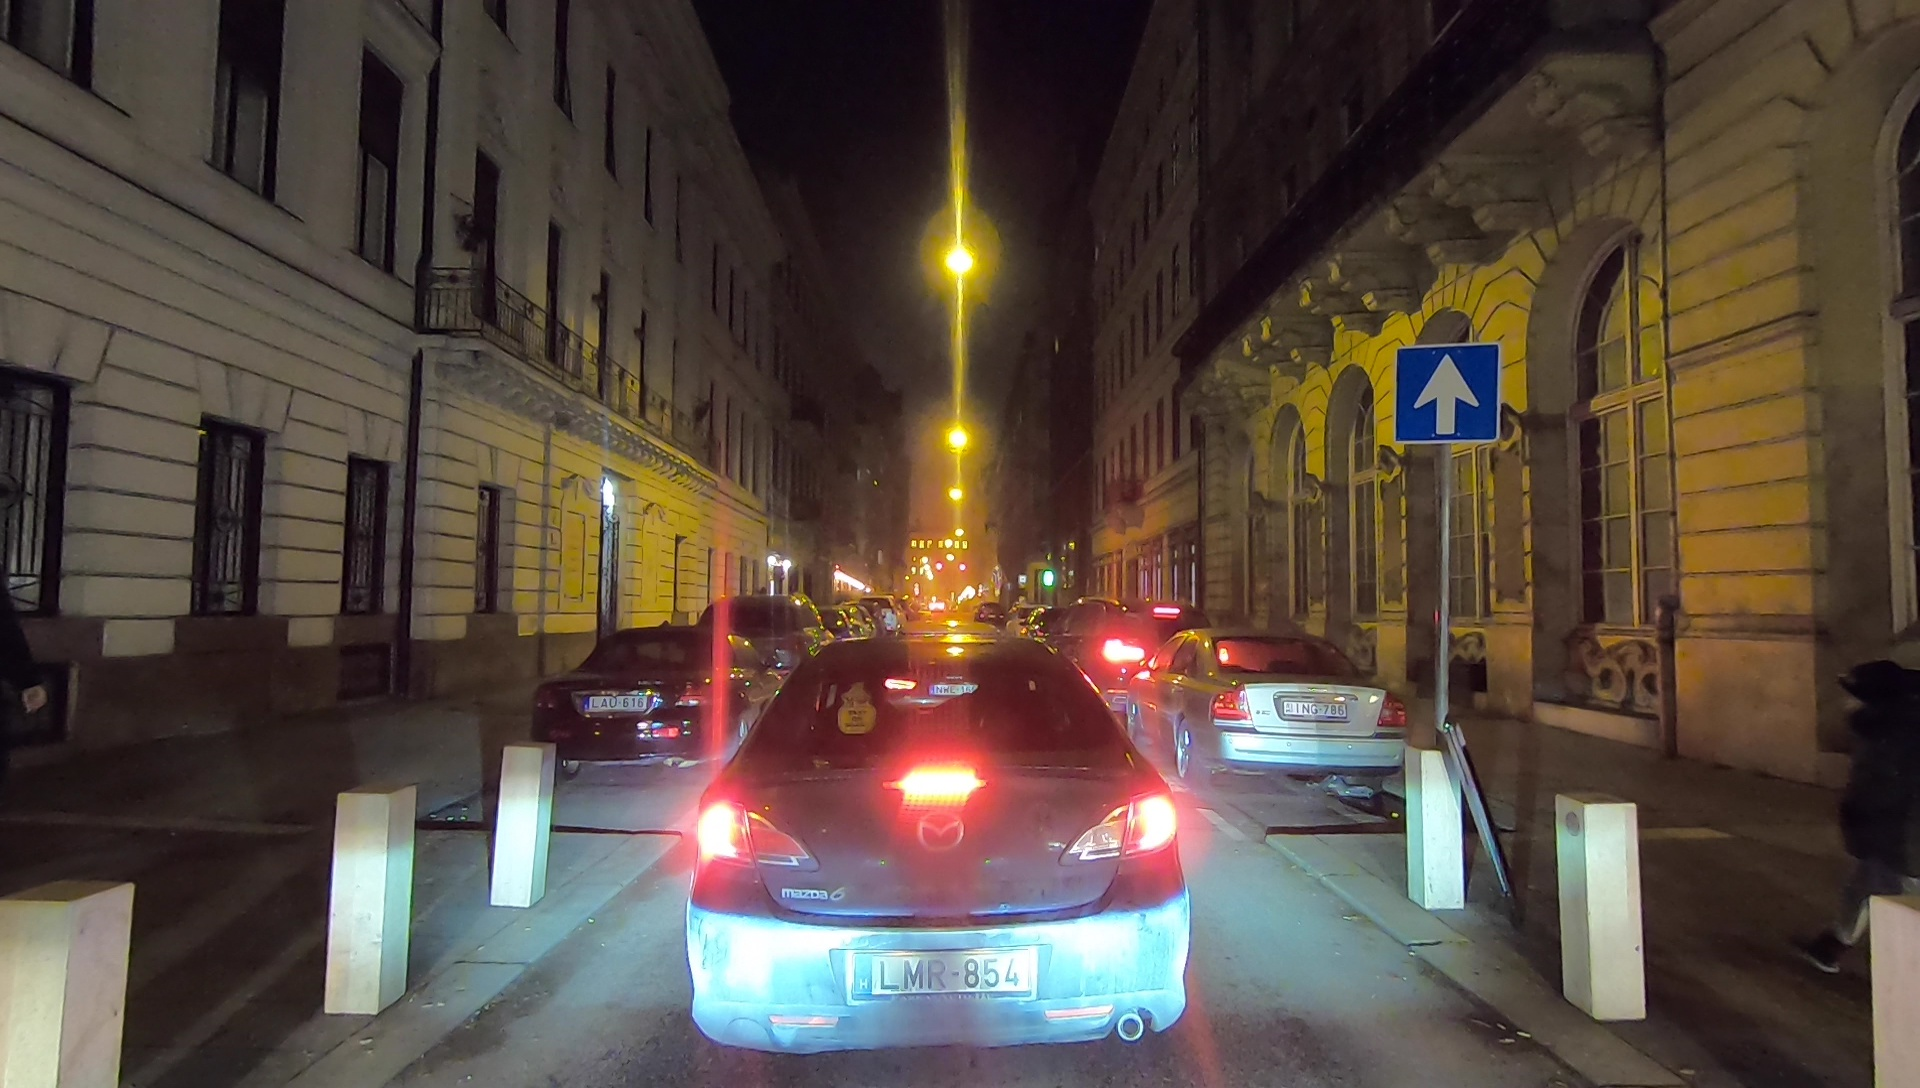person: (1808, 610, 1920, 987)
